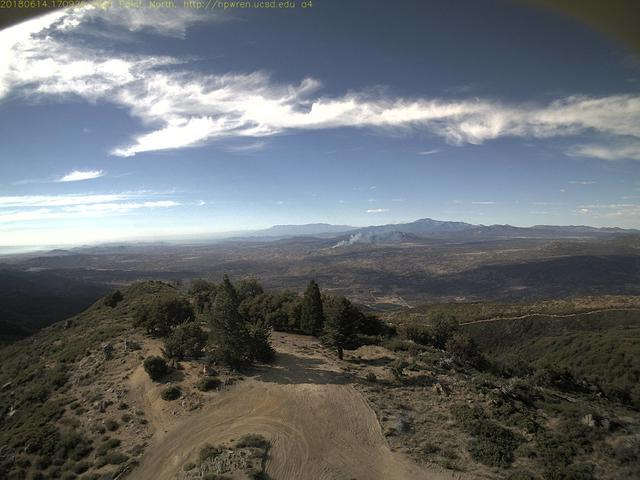smoke: (323, 228, 396, 254)
